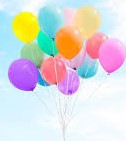Balloon: (7, 59, 37, 91), (98, 38, 126, 72), (12, 12, 39, 43), (75, 7, 101, 37), (39, 6, 64, 36), (57, 27, 82, 57), (40, 57, 66, 83)
